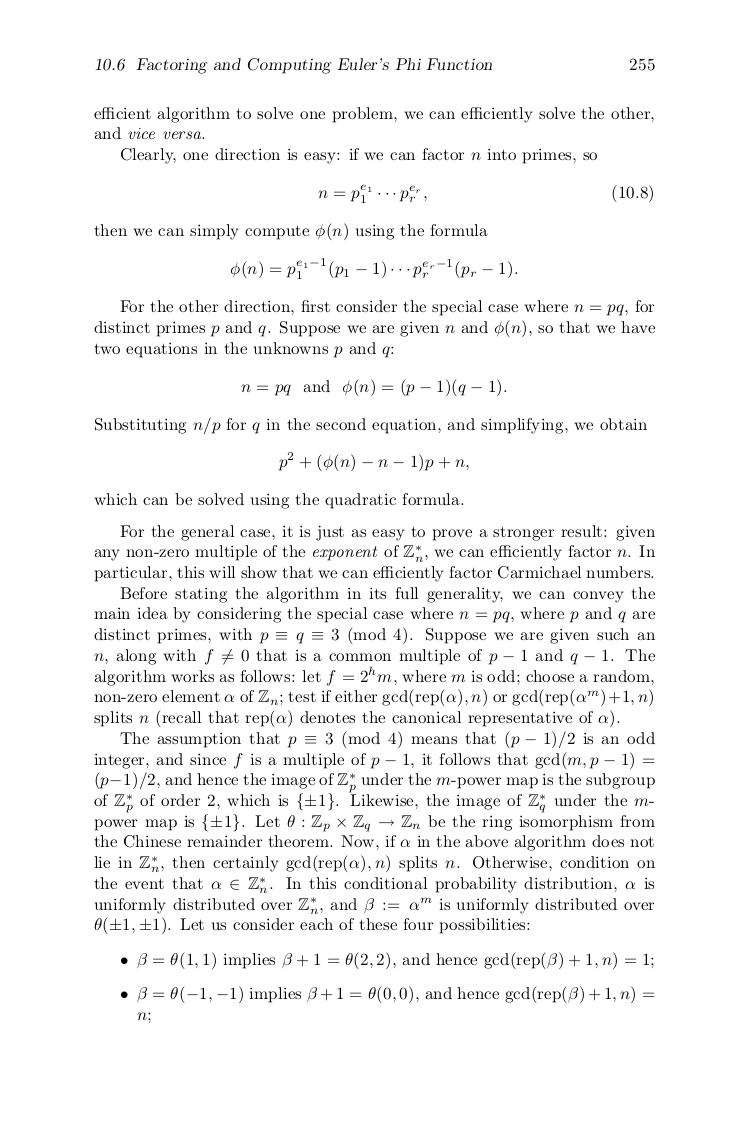formula: (318, 183, 652, 203), (230, 257, 517, 279), (241, 378, 506, 397), (278, 451, 468, 472)
